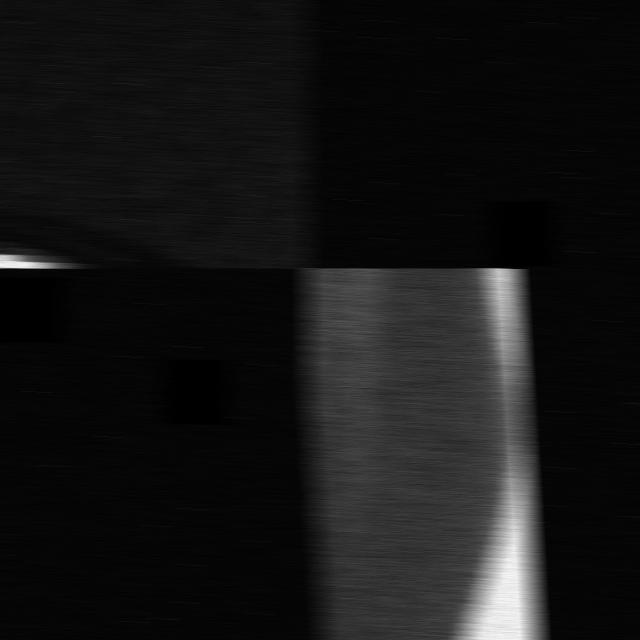Airbag: (303, 268, 541, 640), (0, 0, 311, 268)
